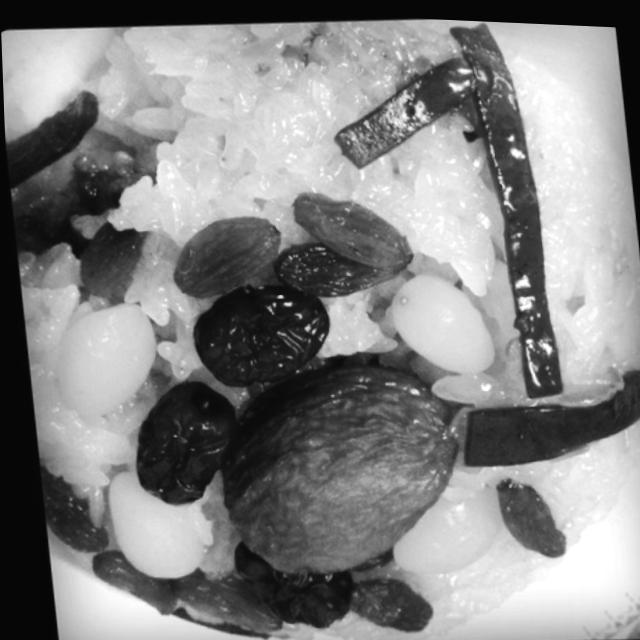米饭主食: (3, 0, 640, 640)
